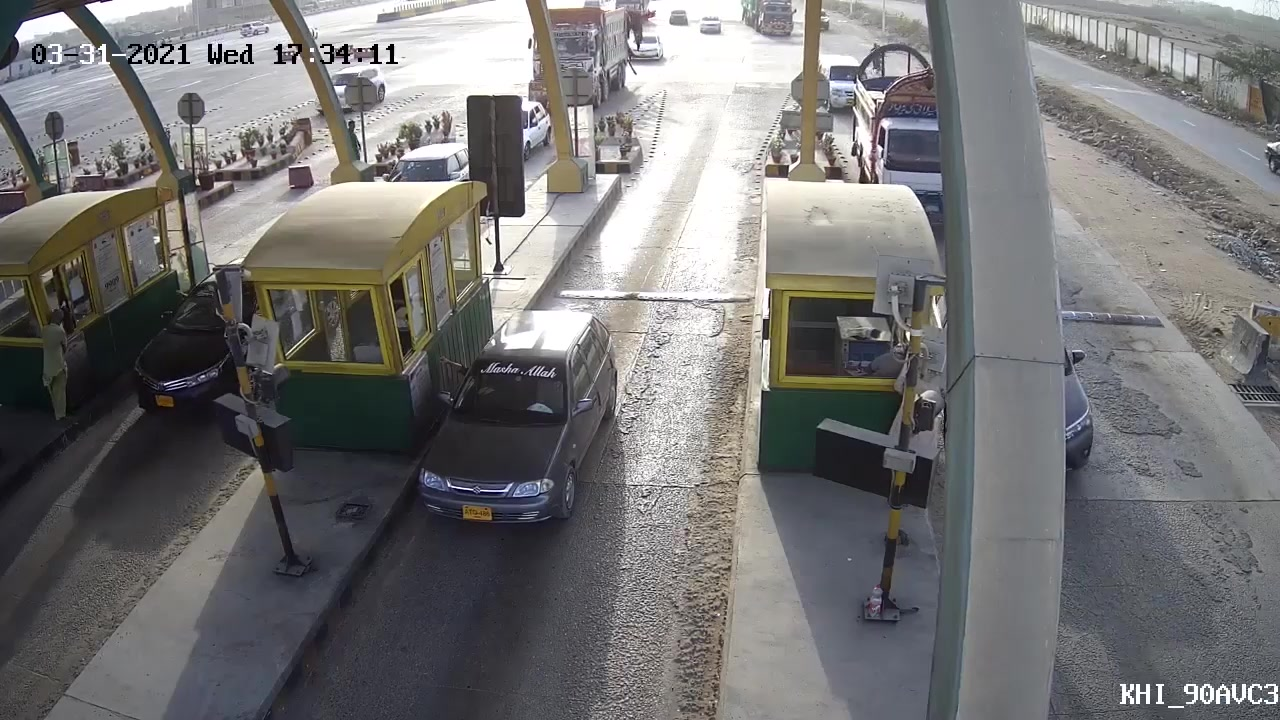F1: (414, 311, 611, 530)
